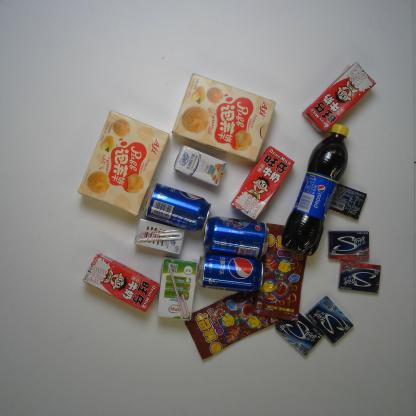Candy: (182, 286, 287, 360), (248, 214, 312, 325)
Dessert: (74, 105, 172, 217), (166, 72, 280, 165)
Drink: (279, 122, 355, 259), (139, 180, 214, 233), (193, 246, 268, 295), (203, 208, 272, 258)
Gum: (304, 290, 356, 348), (270, 309, 324, 358), (322, 179, 370, 222), (336, 256, 384, 294), (325, 227, 374, 264)
Milk: (300, 58, 378, 134), (230, 141, 298, 224), (79, 248, 163, 314), (164, 140, 231, 189), (155, 252, 199, 323), (131, 212, 188, 258)
